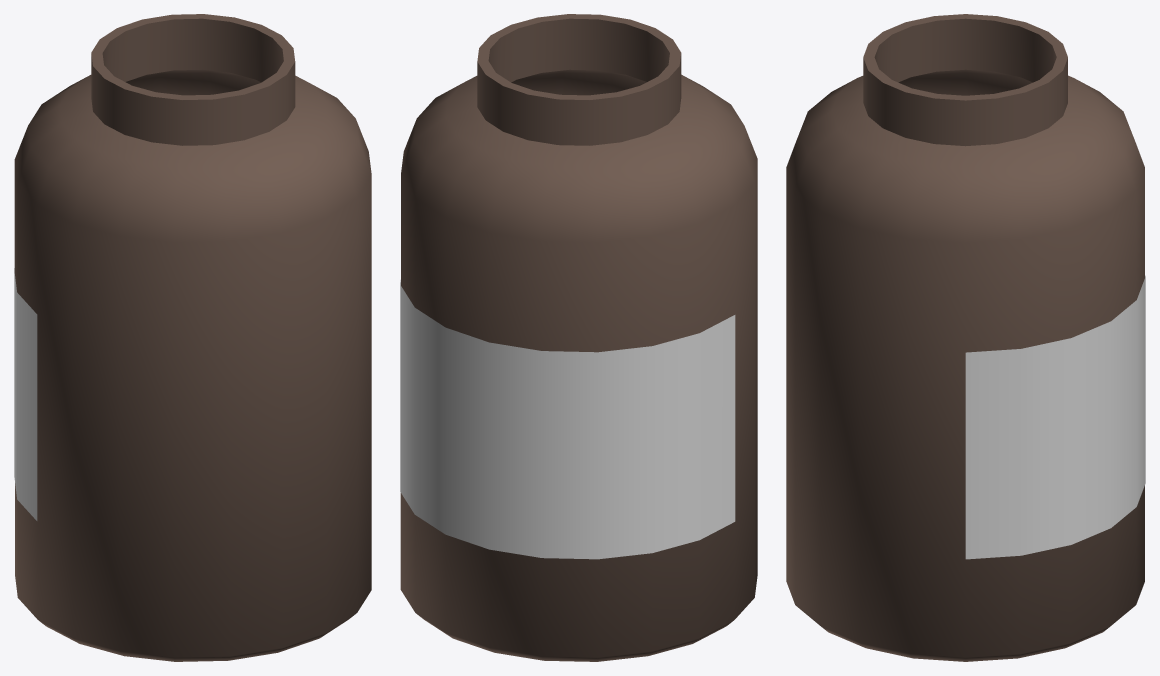
Rendered from Hemmstoff.fbx.
3 renders of one model, left to right at view 1: azimuth 30°, elevation 25°; view 2: azimuth 150°, elevation 25°; view 3: azimuth 270°, elevation 25°, orthographic.
Parts seen in each view (by area): view 1: Cylinder.054, Cylinder.043; view 2: Cylinder.054, Cylinder.043; view 3: Cylinder.054, Cylinder.043.
Boxes of the visible parts, x1,y1,x2,y2 form: Cylinder.054: (14,14,371,661); Cylinder.043: (14,268,37,520); Cylinder.054: (400,14,757,661); Cylinder.043: (400,280,735,559); Cylinder.054: (786,14,1144,661); Cylinder.043: (965,275,1145,559).
Bounding box in the file's own units: 6.38 × 10.43 × 6.37.
